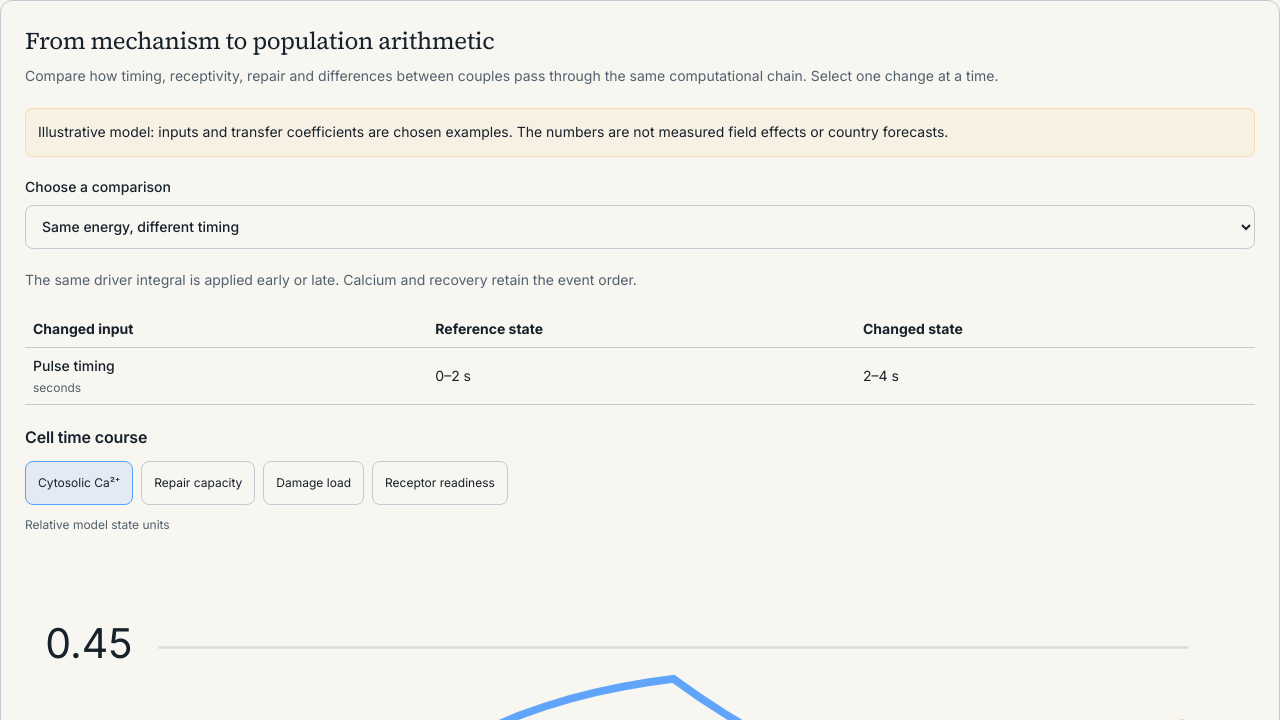
Test: Python-backed conditional scenarios › changes the chart endpoint with an accessible label and a tabular equivalent
Click the button "Damage load" at [314, 483], box x1=263 y1=461 x2=364 y2=505
(page scrolled)
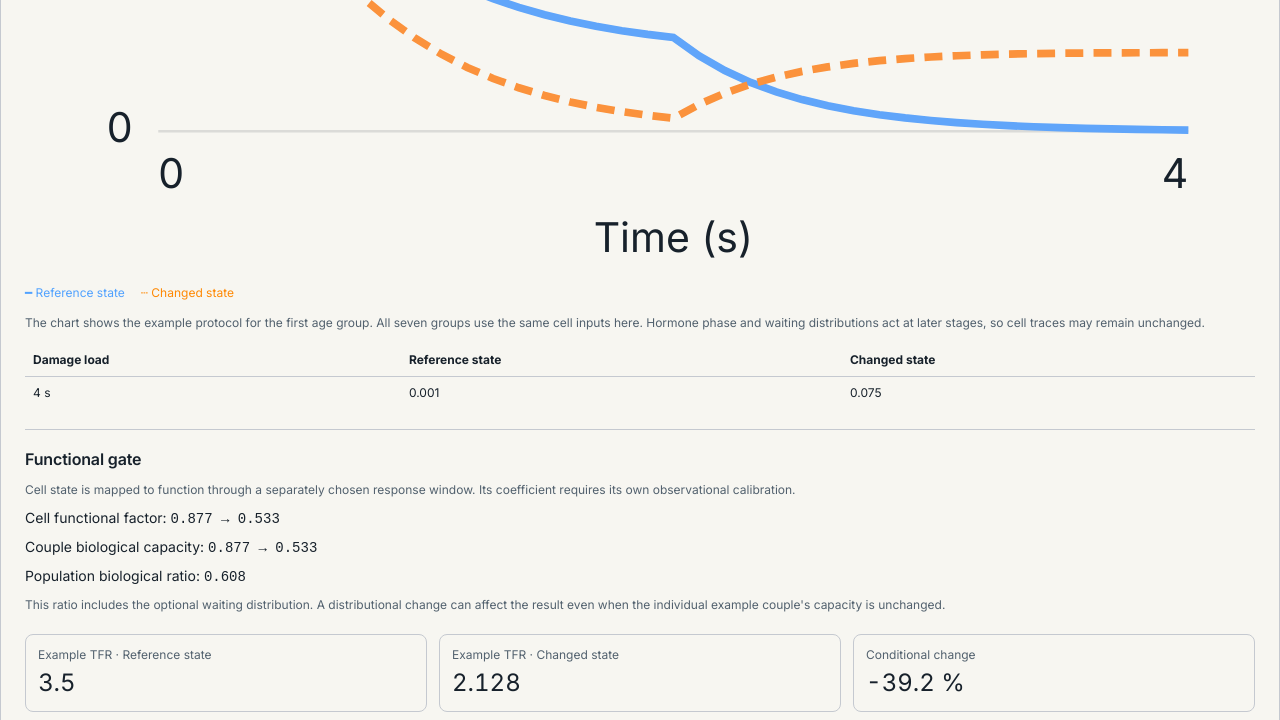
Result: the column heading "Damage load" is shown at x1=25 y1=344 x2=401 y2=376
